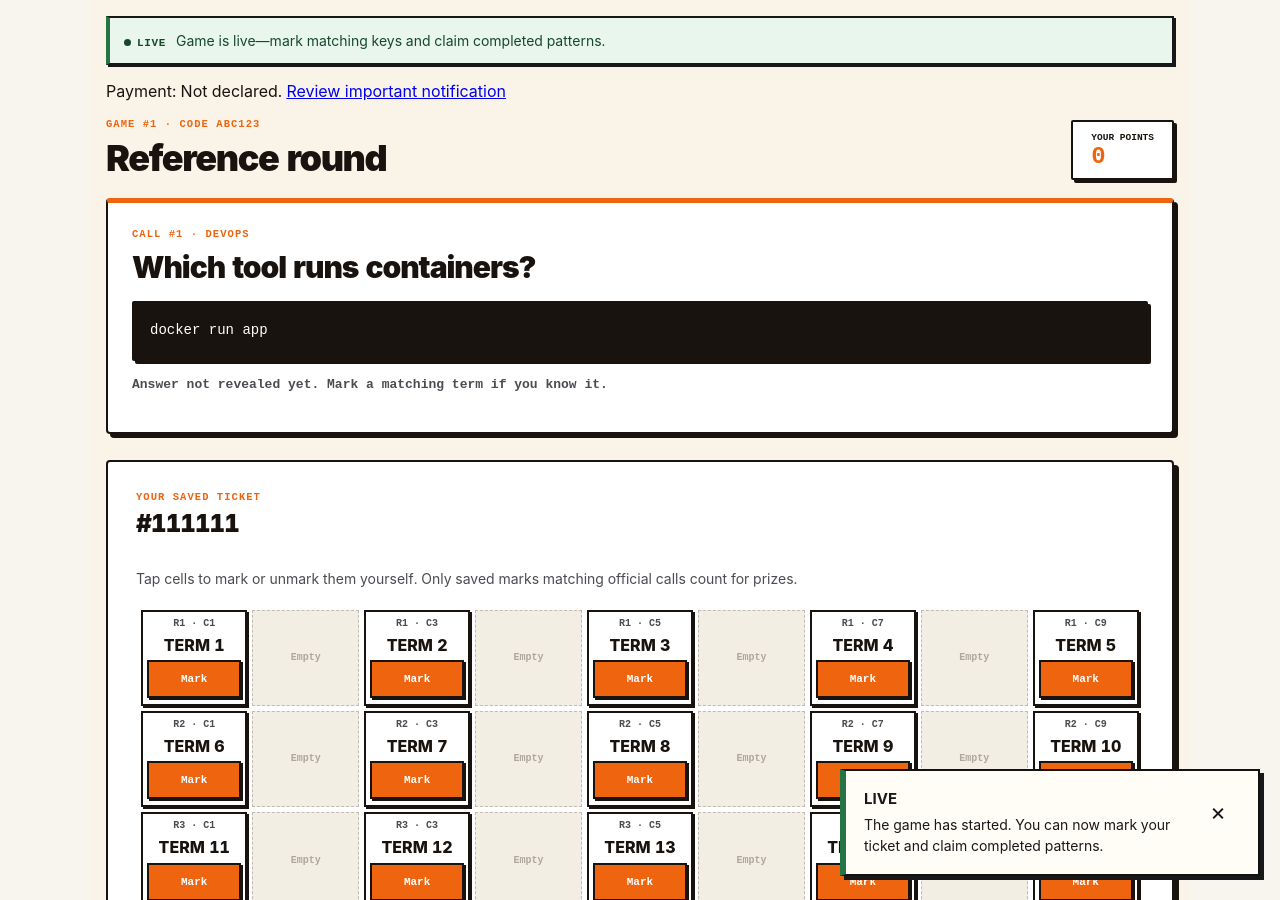
Test: reference participant game › requests manual marking of uncalled cells and displays the persisted response
Click the button with aria-label "Row 1, column 1: TERM 1, not marked": (194,679) top-left (147, 660), bottom-right (241, 698)
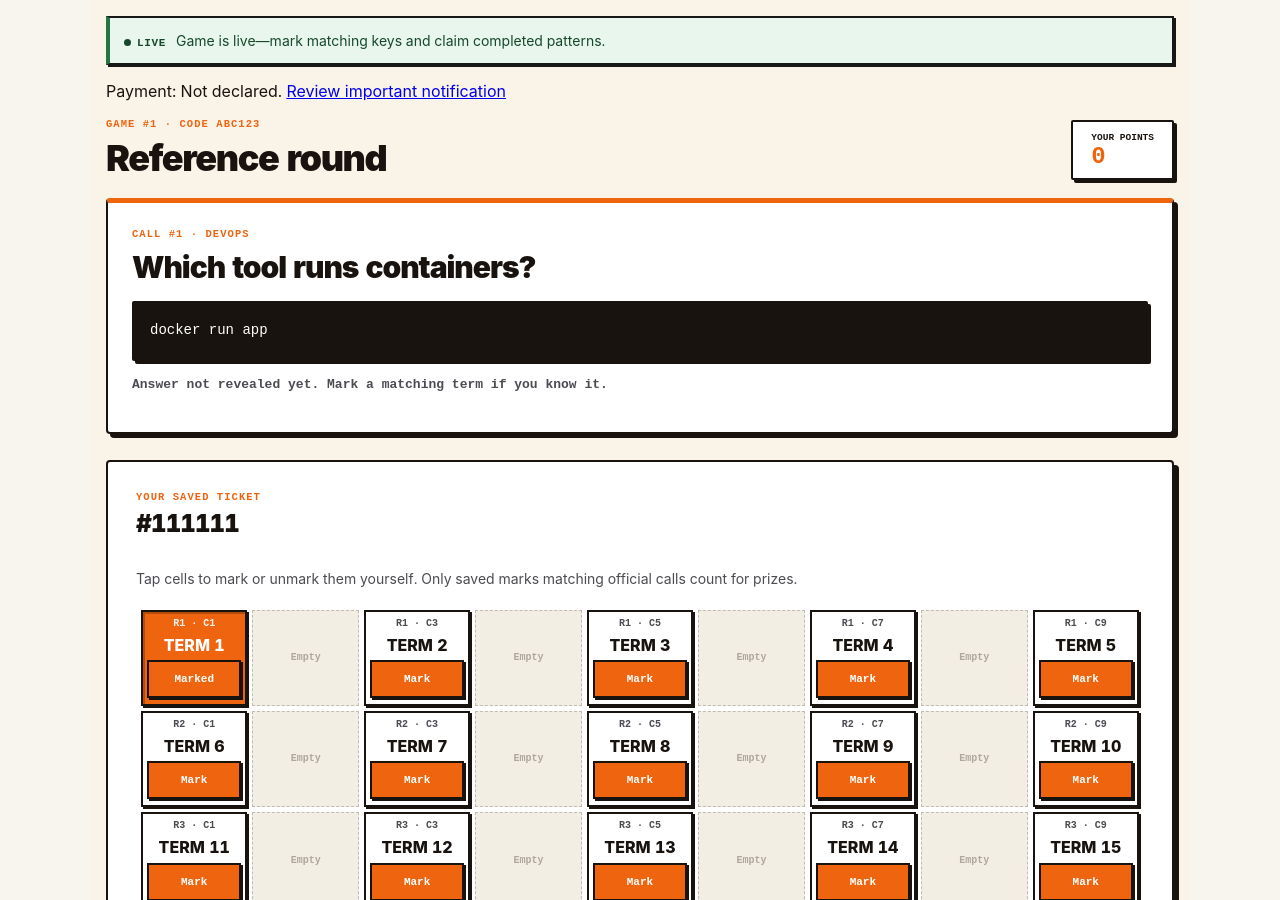
Expected: the button with aria-label "Row 1, column 1: TERM 1, marked" is shown, top-left (147, 660), bottom-right (241, 698)
